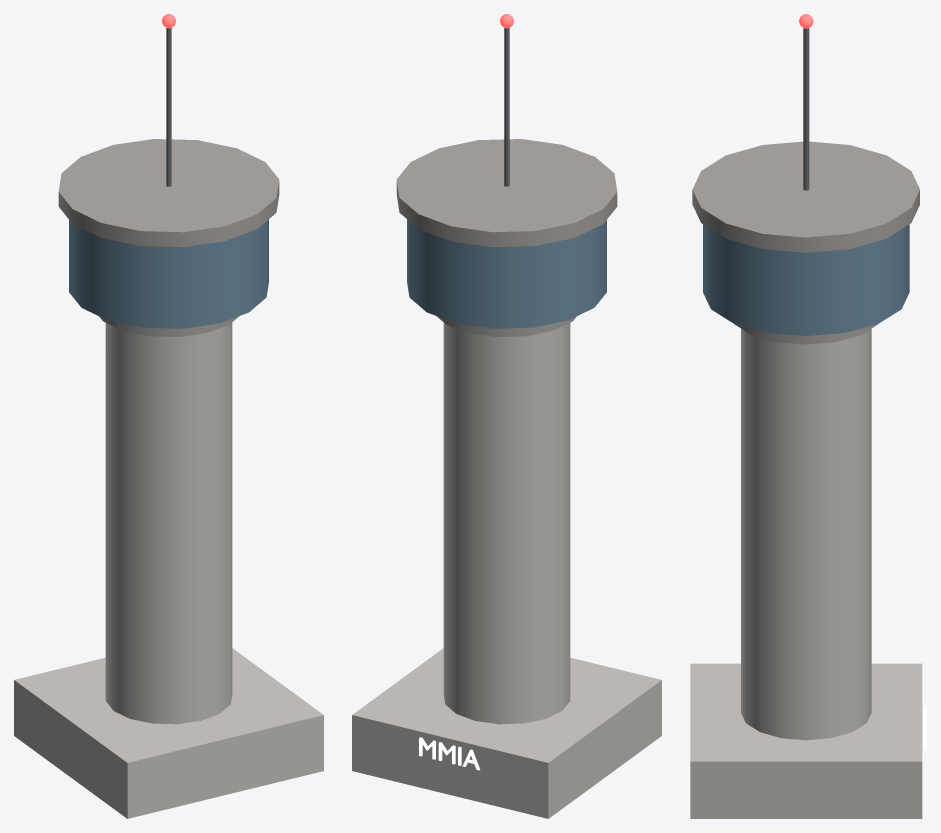
File: mmia_tower.glb
The picture shows the model from 3 angles, left to right: view 1: azimuth 30°, elevation 25°; view 2: azimuth 150°, elevation 25°; view 3: azimuth 270°, elevation 25°; orthographic projection. The views are drawn at different scales.
Parts seen in each view (by area): view 1: BLD_mmia_tower; view 2: BLD_mmia_tower; view 3: BLD_mmia_tower.
Part boxes in pixels (x1=…): BLD_mmia_tower: x1=14, y1=14, x2=323, y2=818; BLD_mmia_tower: x1=352, y1=14, x2=661, y2=818; BLD_mmia_tower: x1=690, y1=14, x2=926, y2=818.
Bounding box in the file's own units: 11 × 39.55 × 11.21.
